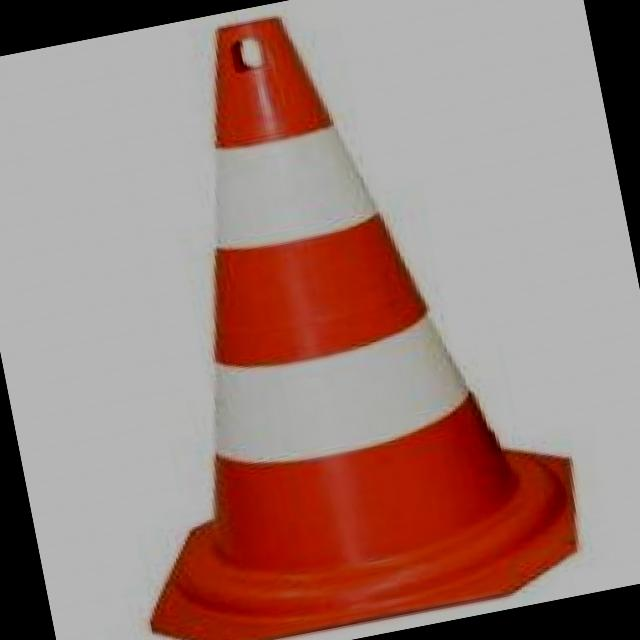cone: (46, 0, 587, 640)
